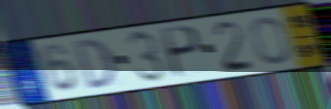2: (211, 19, 255, 74)
3: (125, 29, 168, 85)
6: (39, 42, 79, 95)
D: (71, 36, 119, 91)
O: (249, 14, 293, 66)
P: (161, 25, 203, 81)
